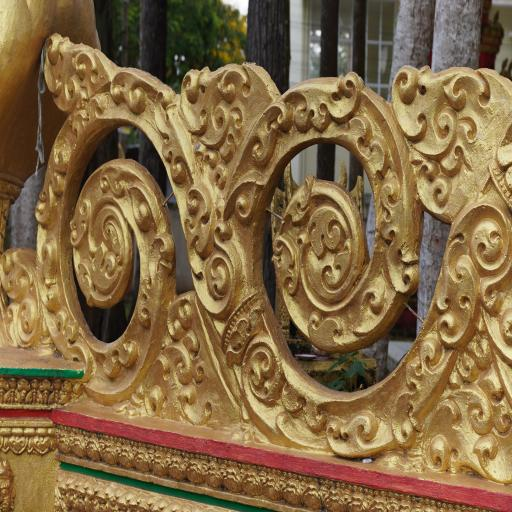la: (204, 52, 511, 462), (35, 34, 212, 430), (392, 51, 512, 222), (0, 242, 54, 357)
